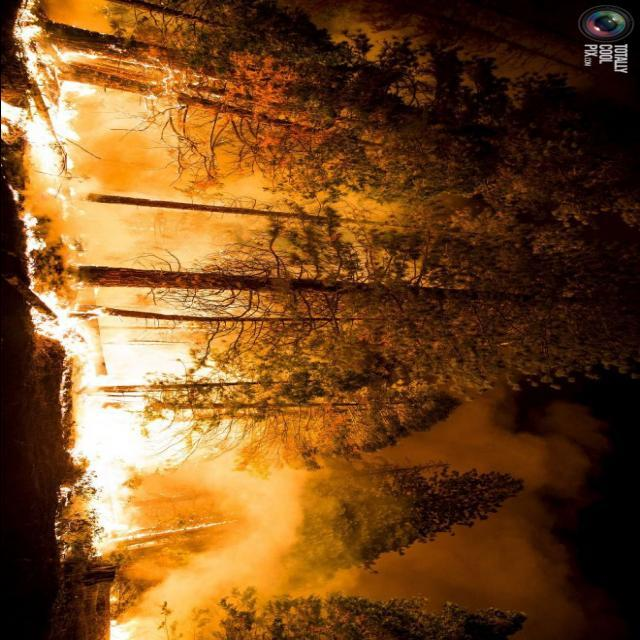Fire: (53, 327, 299, 563), (0, 27, 108, 316)
